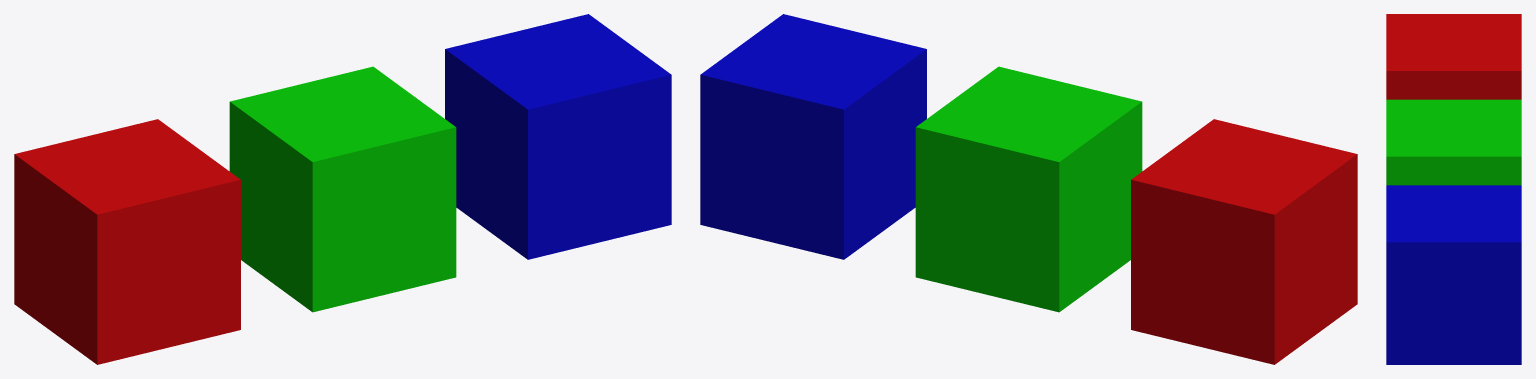
Rendered from cubes.obj.
3 renders of one model, left to right at view 1: azimuth 30°, elevation 25°; view 2: azimuth 150°, elevation 25°; view 3: azimuth 270°, elevation 25°, orthographic. The views are drawn at different scales.
Parts seen in each view (by area): view 1: Cube.001, Cube.002, Cube; view 2: Cube.001, Cube.002, Cube; view 3: Cube, Cube.002, Cube.001.
Boxes of the visible parts, x1,y1,x2,y2 form: Cube.001: [14, 119, 240, 364]; Cube.002: [229, 66, 456, 312]; Cube: [445, 14, 671, 259]; Cube.001: [1131, 119, 1357, 364]; Cube.002: [915, 66, 1142, 312]; Cube: [700, 14, 926, 259]; Cube: [1386, 185, 1521, 364]; Cube.002: [1386, 99, 1521, 185]; Cube.001: [1386, 14, 1521, 99].
Bounding box in the file's own units: 8 × 2 × 2.
